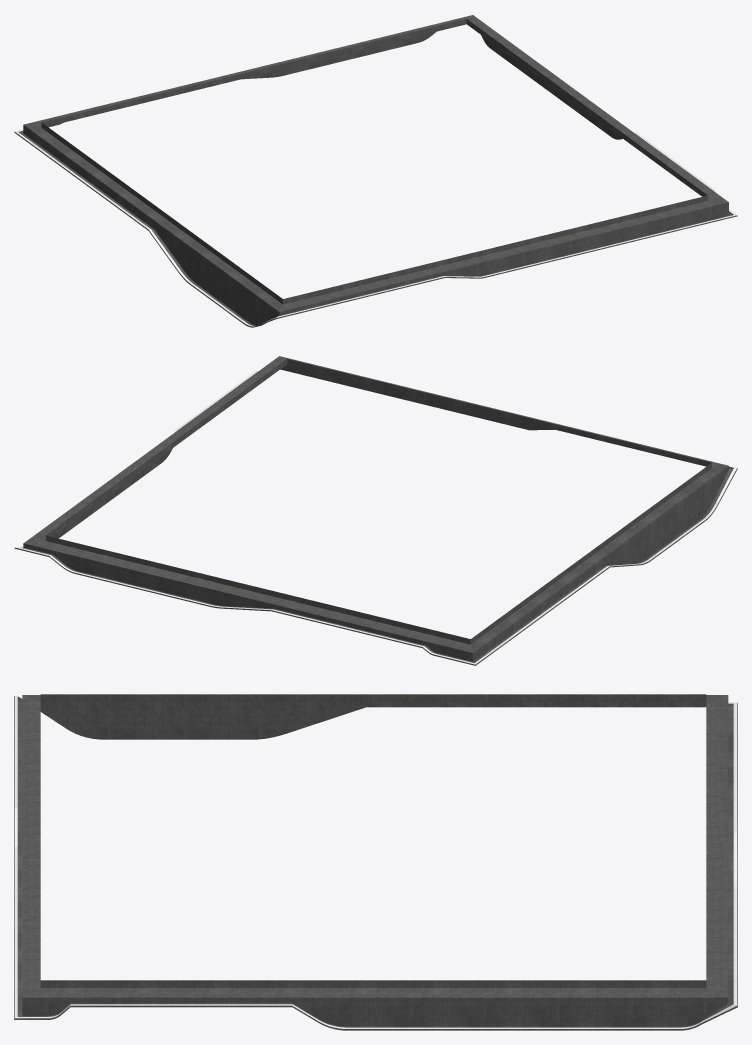
Rendered from Stadium_Celiling_Corner.FBX.
The picture shows the model from 3 angles, top to bottom: view 1: azimuth 30°, elevation 25°; view 2: azimuth 150°, elevation 25°; view 3: azimuth 270°, elevation 25°; orthographic projection. The views are drawn at different scales.
Visible parts, largest first — view 1: Stadium_Celiling_Corner; view 2: Stadium_Celiling_Corner; view 3: Stadium_Celiling_Corner.
Part boxes in pixels (box(x1,y1,x2,y2)): Stadium_Celiling_Corner: box(14, 14, 737, 327); Stadium_Celiling_Corner: box(14, 356, 737, 665); Stadium_Celiling_Corner: box(14, 694, 737, 1030).
Size of the model in its own units: 64364 by 5052 by 63369.
